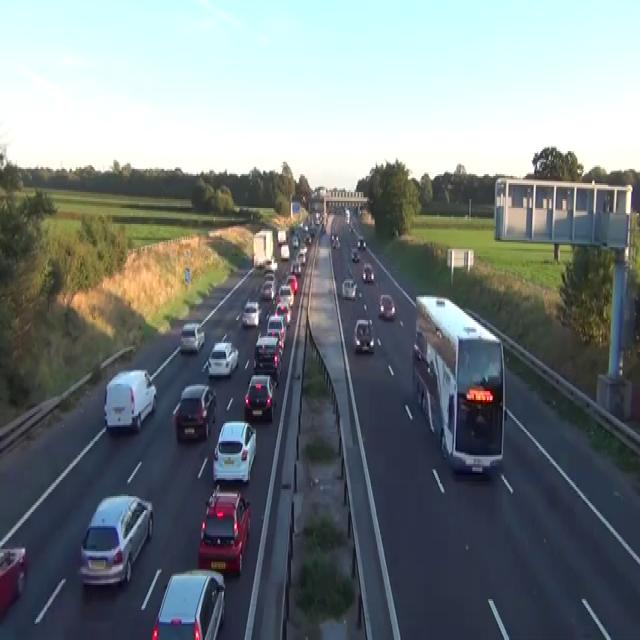Car: (79, 492, 153, 586), (151, 567, 225, 638), (197, 487, 251, 574), (103, 368, 157, 432), (212, 420, 256, 486), (172, 382, 217, 443), (0, 546, 27, 620), (244, 374, 276, 422), (253, 334, 282, 382), (207, 341, 238, 377), (179, 322, 205, 354), (353, 318, 374, 352), (266, 313, 286, 347), (241, 301, 261, 327), (266, 329, 284, 357), (378, 293, 395, 320), (413, 330, 427, 362), (274, 302, 290, 327), (278, 282, 293, 306), (342, 277, 357, 299), (260, 279, 274, 299), (362, 261, 374, 283), (285, 274, 298, 292), (296, 249, 306, 265), (264, 258, 277, 270), (290, 262, 301, 276), (280, 243, 289, 260), (263, 270, 274, 283), (331, 235, 340, 249), (357, 236, 366, 249), (351, 247, 359, 261), (254, 256, 263, 268), (344, 208, 350, 224), (308, 224, 316, 235), (292, 235, 299, 247), (299, 244, 307, 254), (304, 233, 311, 243), (320, 222, 326, 233), (349, 224, 354, 233), (331, 233, 335, 242)
Truck: (411, 294, 505, 476), (252, 228, 273, 268)
